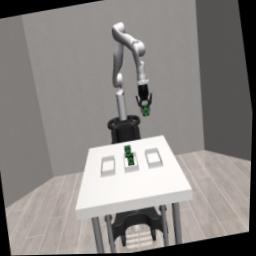cube1: (124, 145, 133, 159)
cube2: (129, 154, 136, 166)
cube3: (142, 104, 152, 117)
